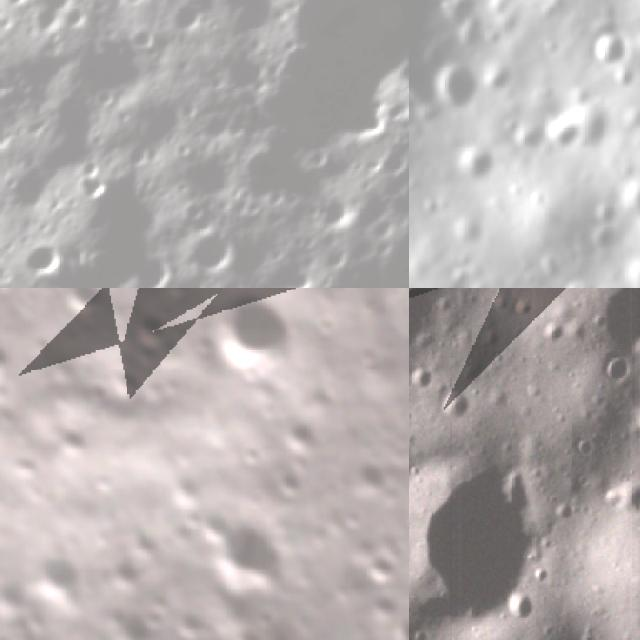crater: (409, 443, 563, 628), (178, 288, 314, 408), (183, 498, 295, 612), (15, 534, 95, 616), (571, 288, 640, 362), (80, 583, 169, 640), (180, 216, 253, 284), (203, 0, 321, 41), (113, 291, 180, 359), (348, 534, 409, 597), (336, 444, 397, 506), (160, 457, 221, 517), (11, 231, 74, 286), (217, 42, 276, 100), (111, 515, 168, 572), (41, 288, 115, 330), (71, 365, 127, 420), (272, 404, 327, 460), (69, 154, 125, 208), (119, 245, 180, 288), (263, 460, 311, 508), (159, 596, 210, 640), (49, 421, 93, 466), (434, 64, 472, 110), (383, 39, 409, 106), (0, 320, 23, 393), (588, 33, 630, 70), (504, 590, 540, 628), (440, 391, 478, 427), (609, 480, 640, 520), (226, 615, 275, 640), (545, 117, 582, 150), (453, 150, 493, 179), (579, 229, 611, 254), (592, 201, 623, 223), (484, 24, 506, 52), (192, 630, 237, 640), (623, 263, 640, 288), (631, 181, 640, 213)
